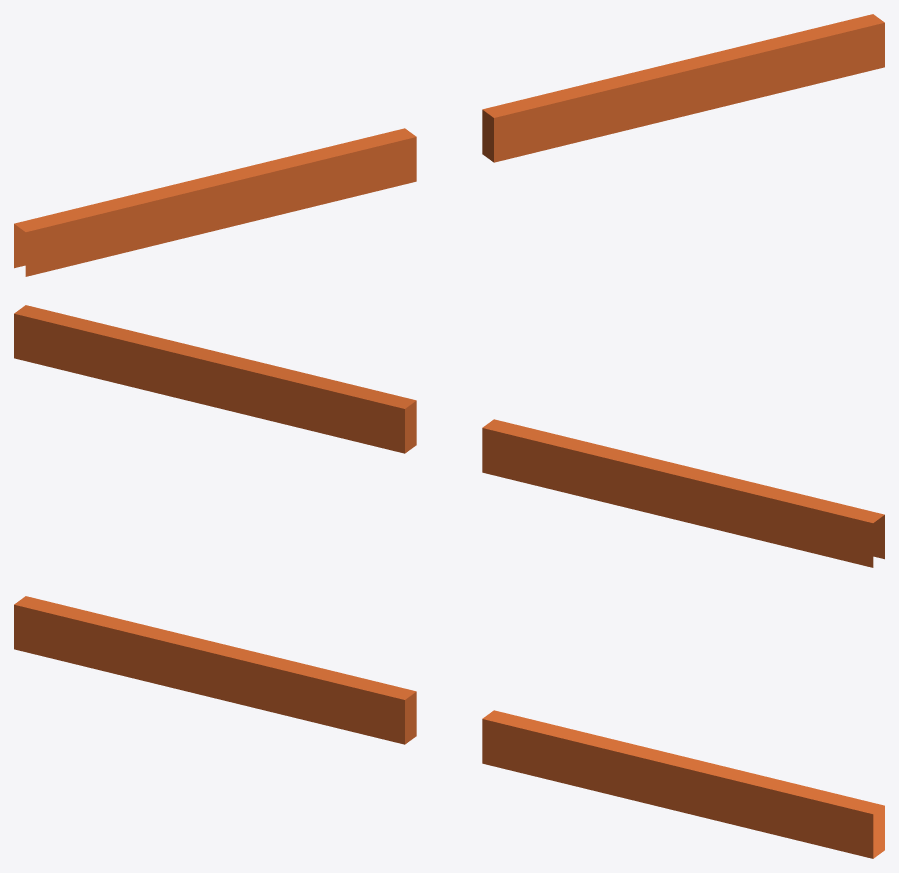
Rendered from WallSmall_03.fbx.
The picture shows the model from 3 angles, top to bottom: view 1: azimuth 30°, elevation 25°; view 2: azimuth 150°, elevation 25°; view 3: azimuth 330°, elevation 25°; orthographic projection.
Visible parts, largest first — view 1: Wall_Small_03; view 2: Wall_Small_03; view 3: Wall_Small_03.
Boxes of the visible parts, x1,y1,x2,y2 form: Wall_Small_03: (14,14,884,276); Wall_Small_03: (14,305,884,567); Wall_Small_03: (14,596,884,858).
Size of the model in its own units: 1680 by 83.48 by 40.
